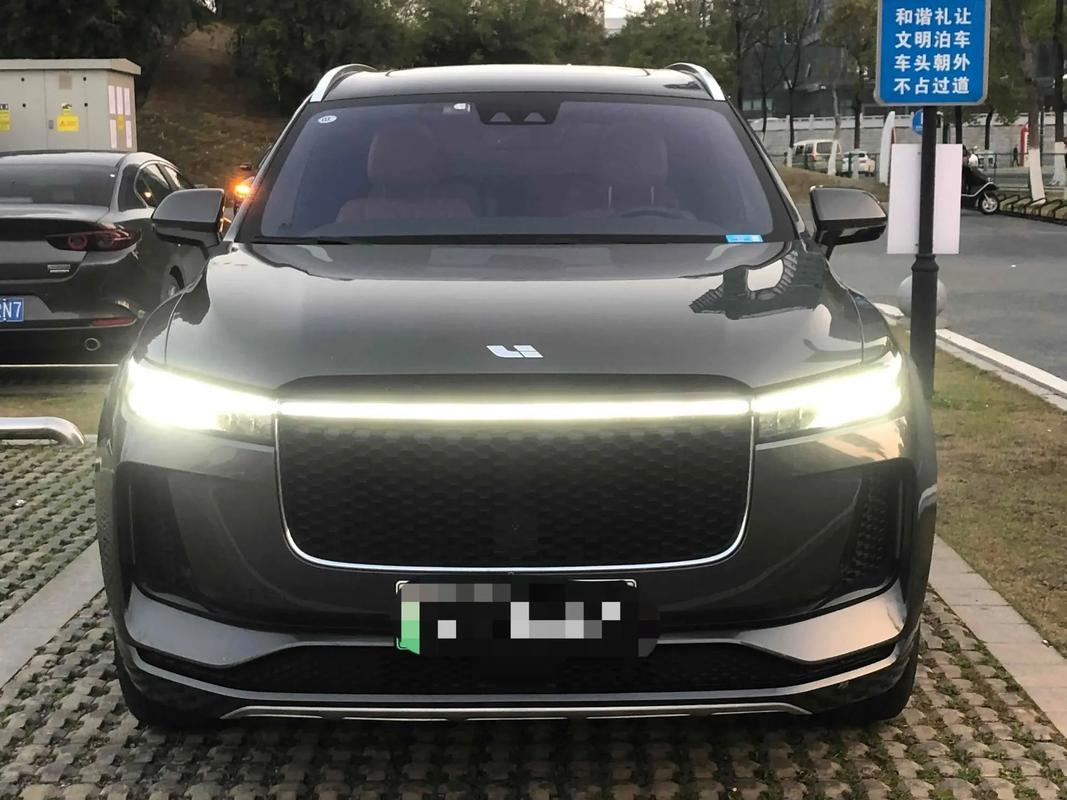Li Auto: (485, 344, 545, 360)
